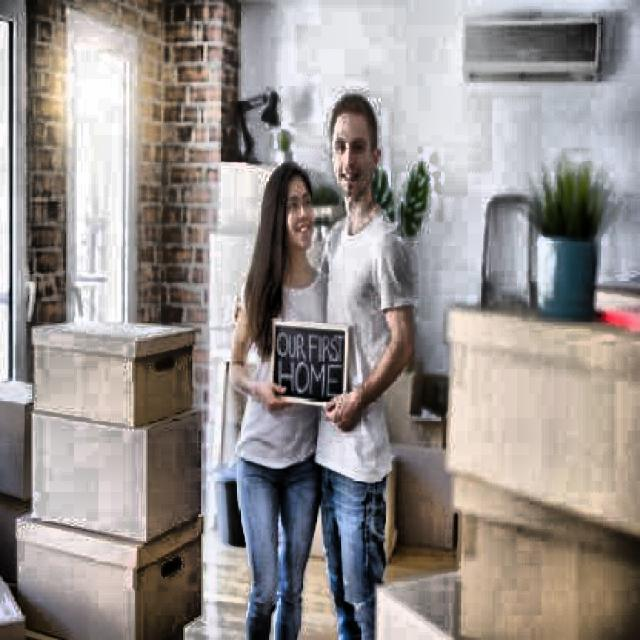Cardbox: (421, 277, 640, 546), (426, 472, 640, 640), (16, 400, 212, 552), (6, 510, 208, 640), (24, 318, 204, 433)
